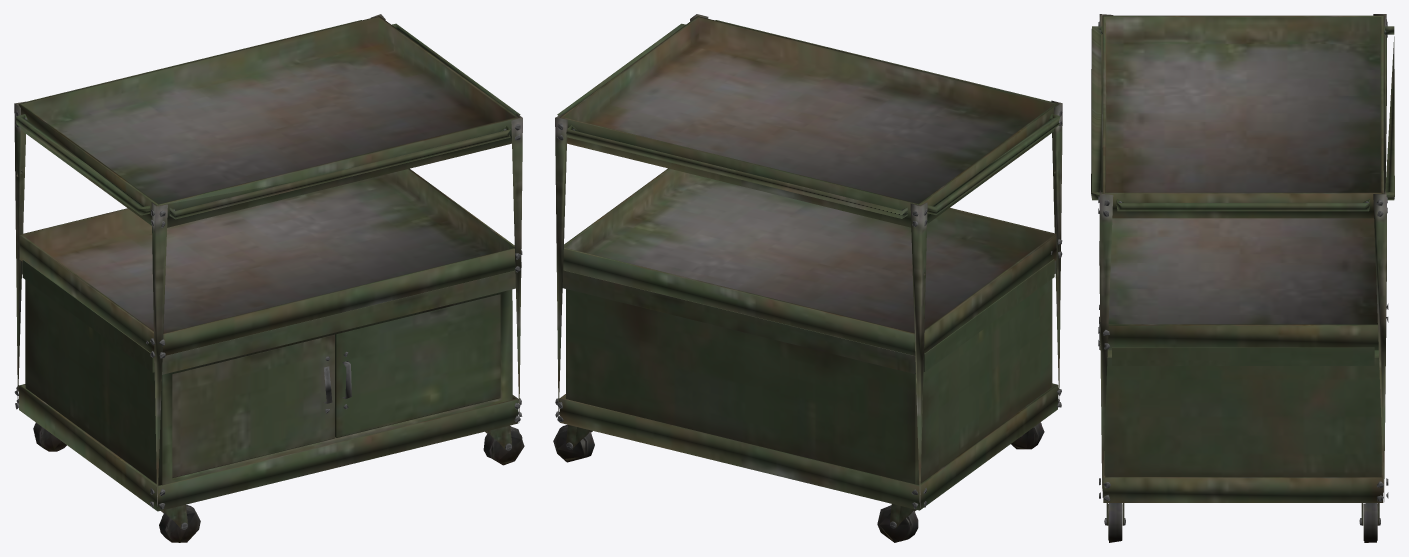
Rendered from parts_cart.glb.
3 renders of one model, left to right at view 1: azimuth 30°, elevation 25°; view 2: azimuth 150°, elevation 25°; view 3: azimuth 270°, elevation 25°, orthographic.
Parts seen in each view (by area): view 1: industrial_storage_cart; view 2: industrial_storage_cart; view 3: industrial_storage_cart.
Boxes of the visible parts, box(x1,y1,x2,y2) form: industrial_storage_cart: box(14, 14, 524, 542); industrial_storage_cart: box(553, 14, 1062, 542); industrial_storage_cart: box(1091, 14, 1394, 542).
Bounding box in the file's own units: 1.58 × 1.38 × 1.08.
1 material, 1 textured.
